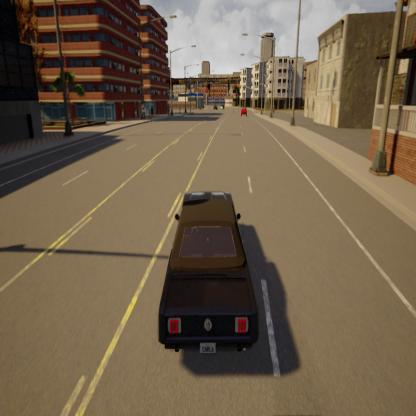Cars: (157, 190, 260, 363), (239, 104, 247, 120)
